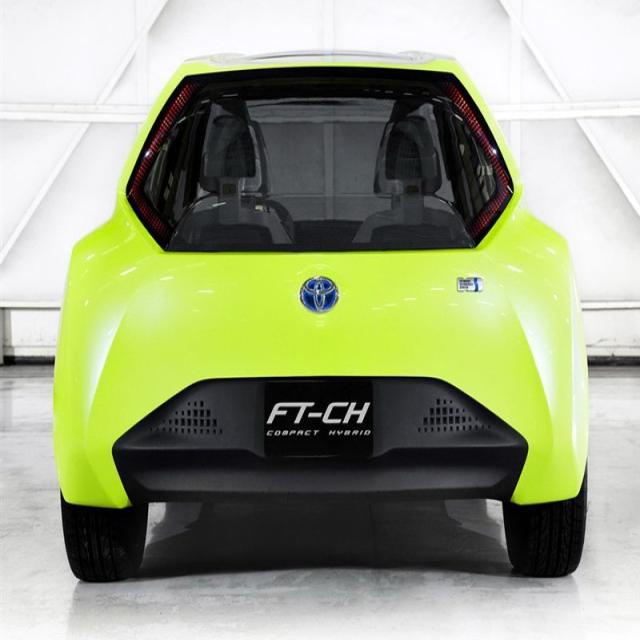back_glass: (123, 68, 514, 253)
back_left_side_light: (126, 75, 202, 256)
back_right_side_light: (442, 74, 516, 248)
rear_bumper: (102, 364, 534, 512)
